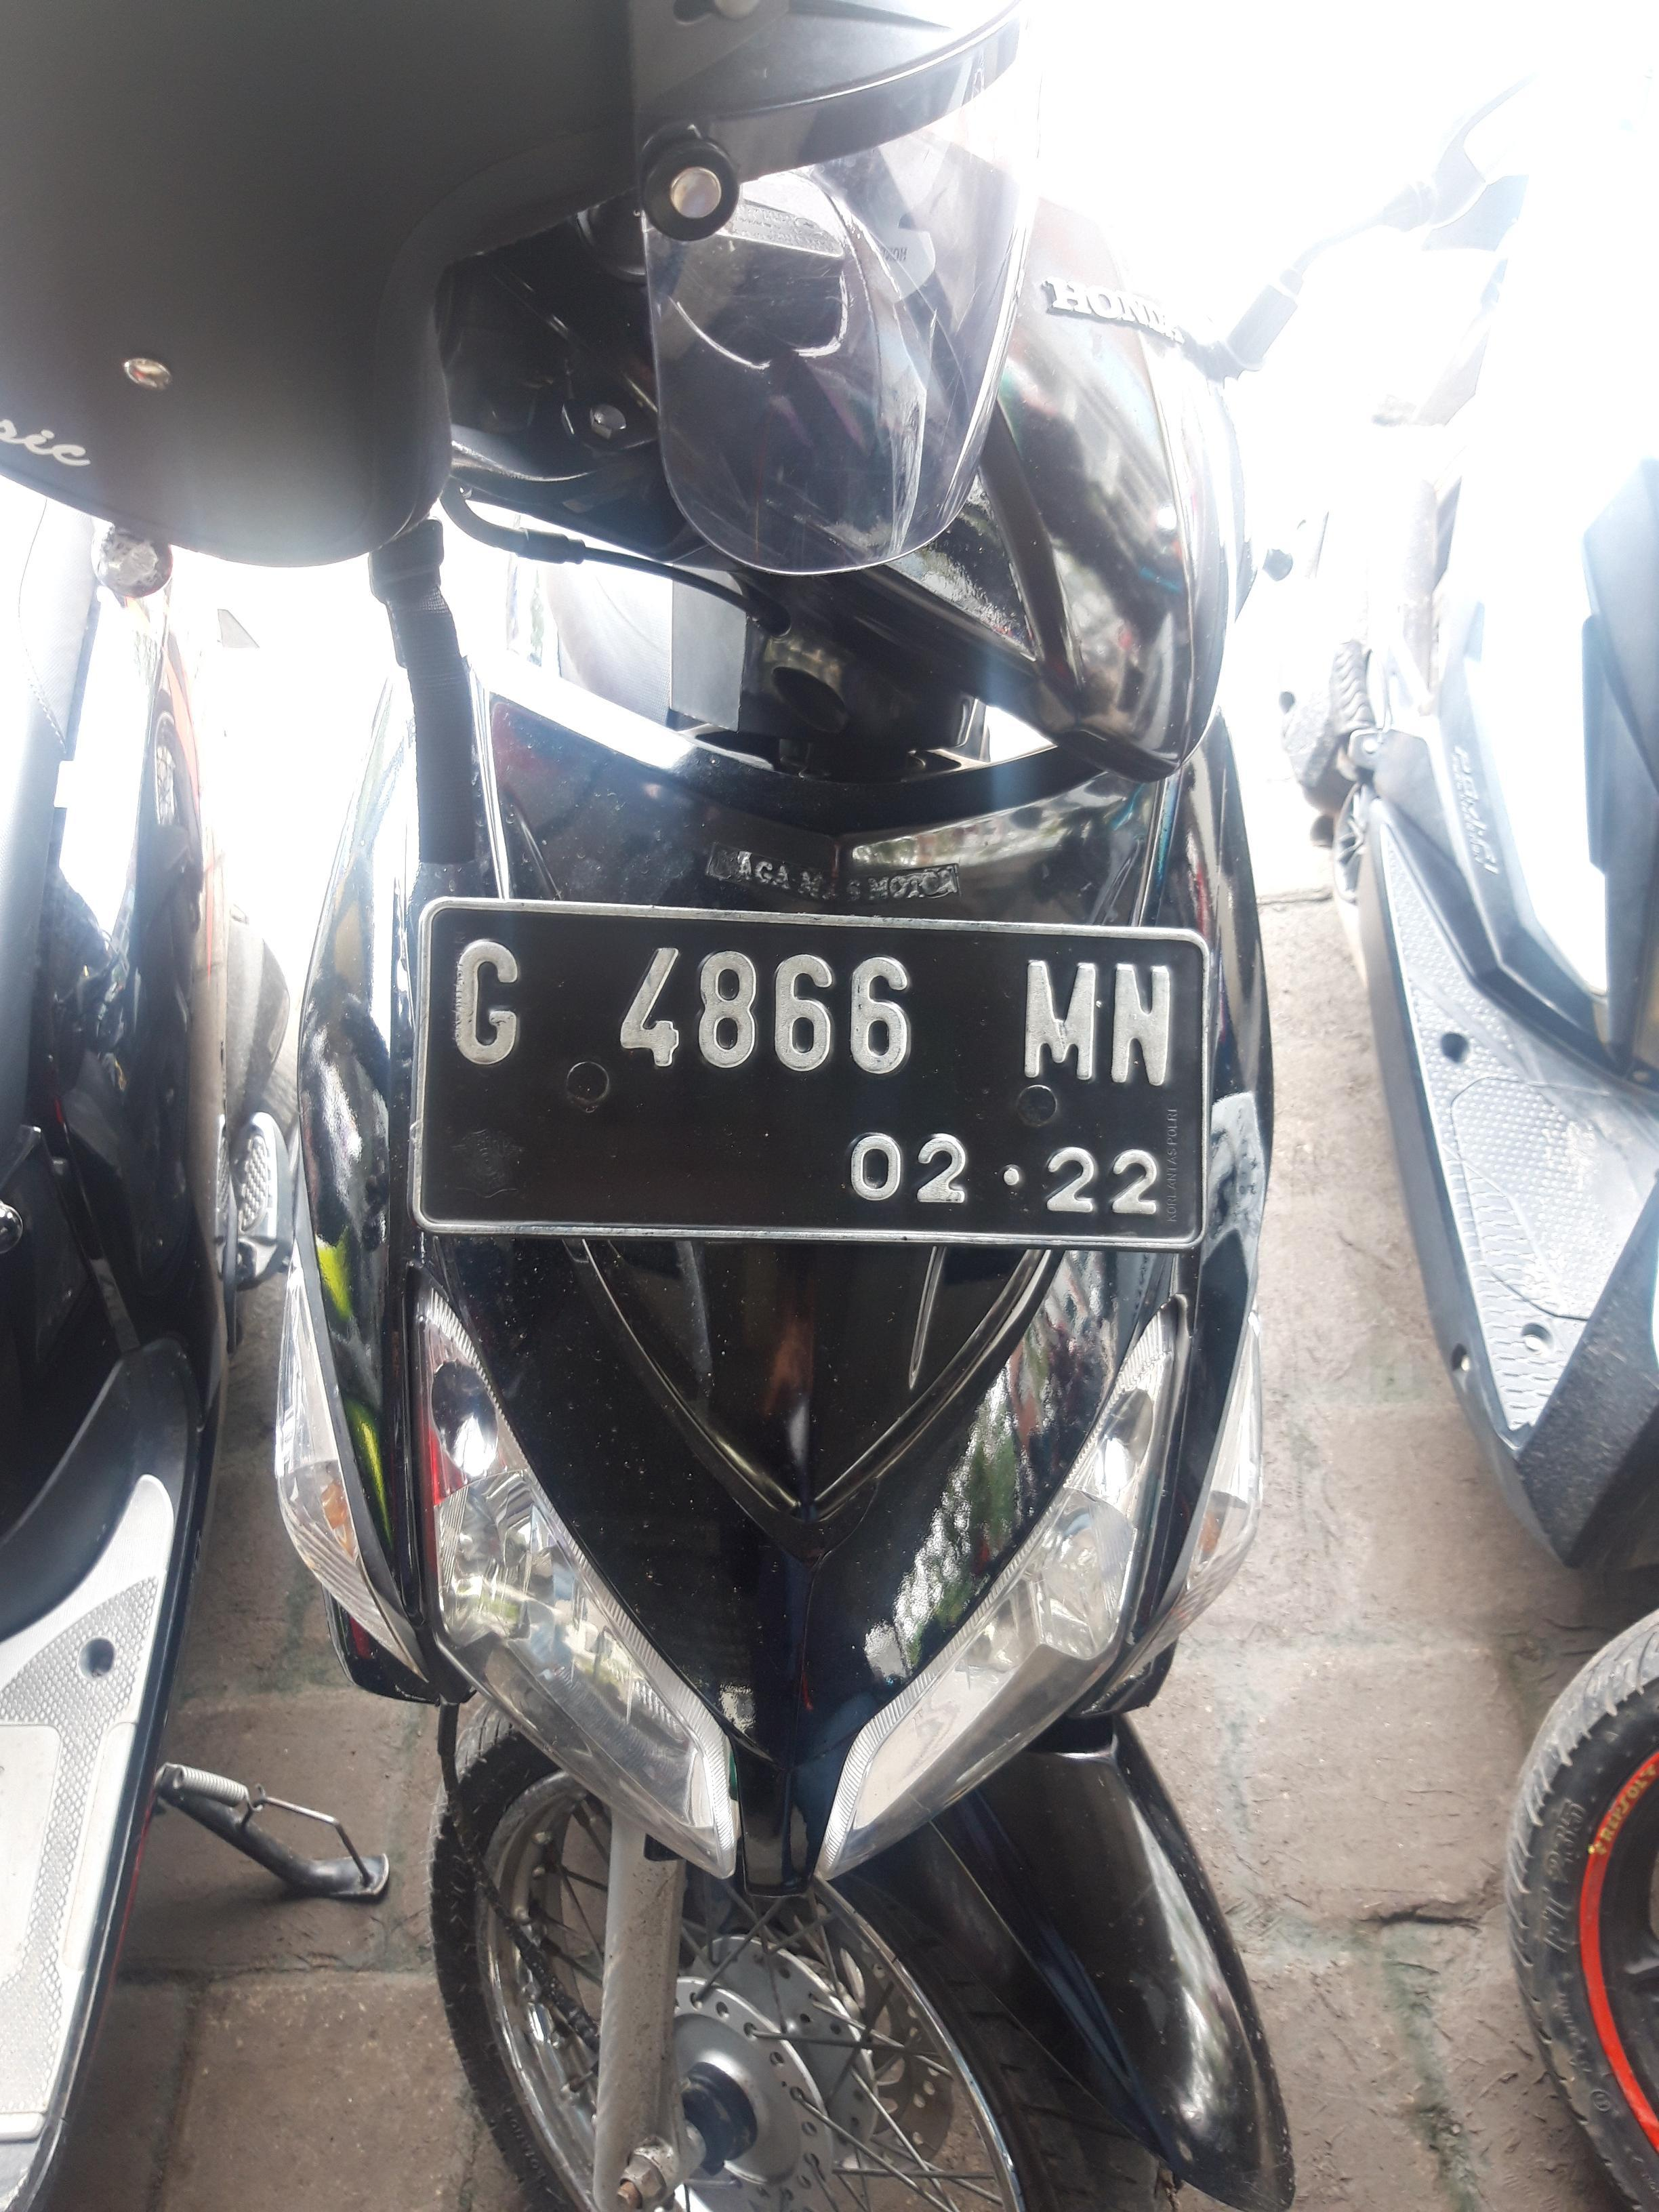clone-license-plate: (411, 905, 1200, 1243)
